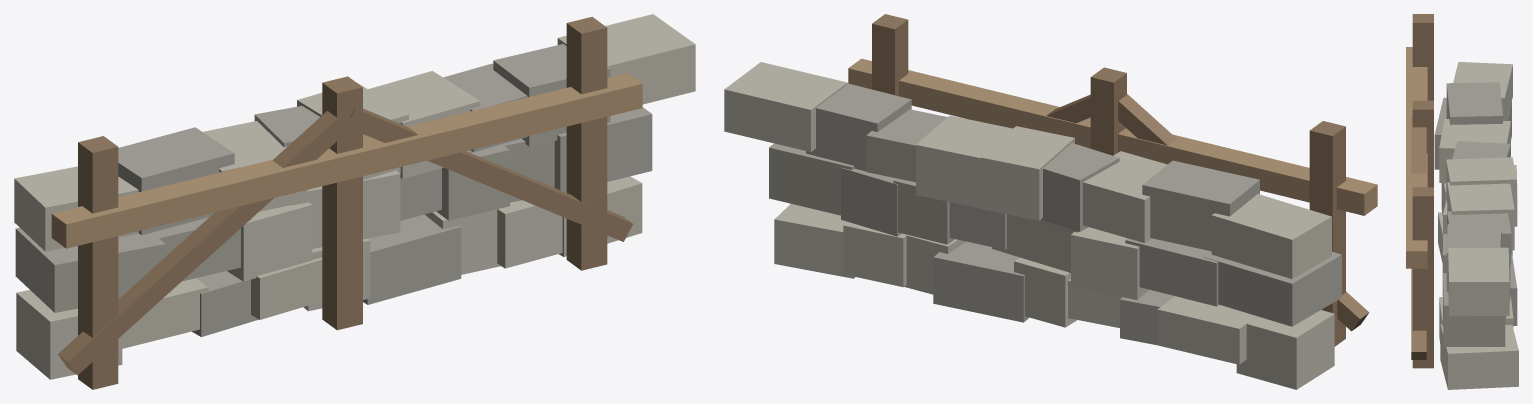
Rendered from stone_timber_barricade.glb.
3 renders of one model, left to right at view 1: azimuth 30°, elevation 25°; view 2: azimuth 150°, elevation 25°; view 3: azimuth 270°, elevation 25°, orthographic. The views are drawn at different scales.
Parts seen in each view (by area): view 1: stone_lt, stone, wood, wood_lt; view 2: stone_lt, stone, wood_lt, wood; view 3: stone_lt, stone, wood, wood_lt.
Part boxes in pixels (bbox=[...]): stone_lt: bbox=[14, 14, 695, 379]; stone: bbox=[15, 44, 652, 336]; wood: bbox=[58, 16, 632, 389]; wood_lt: bbox=[51, 73, 642, 248]; stone_lt: bbox=[724, 62, 1334, 389]; stone: bbox=[769, 83, 1341, 344]; wood_lt: bbox=[848, 58, 1377, 215]; wood: bbox=[872, 14, 1369, 346]; stone_lt: bbox=[1438, 62, 1518, 389]; stone: bbox=[1434, 82, 1517, 346]; wood: bbox=[1411, 14, 1433, 368]; wood_lt: bbox=[1406, 47, 1427, 268].
Bounding box in the file's own units: 2.56 × 0.9039 × 0.523.
